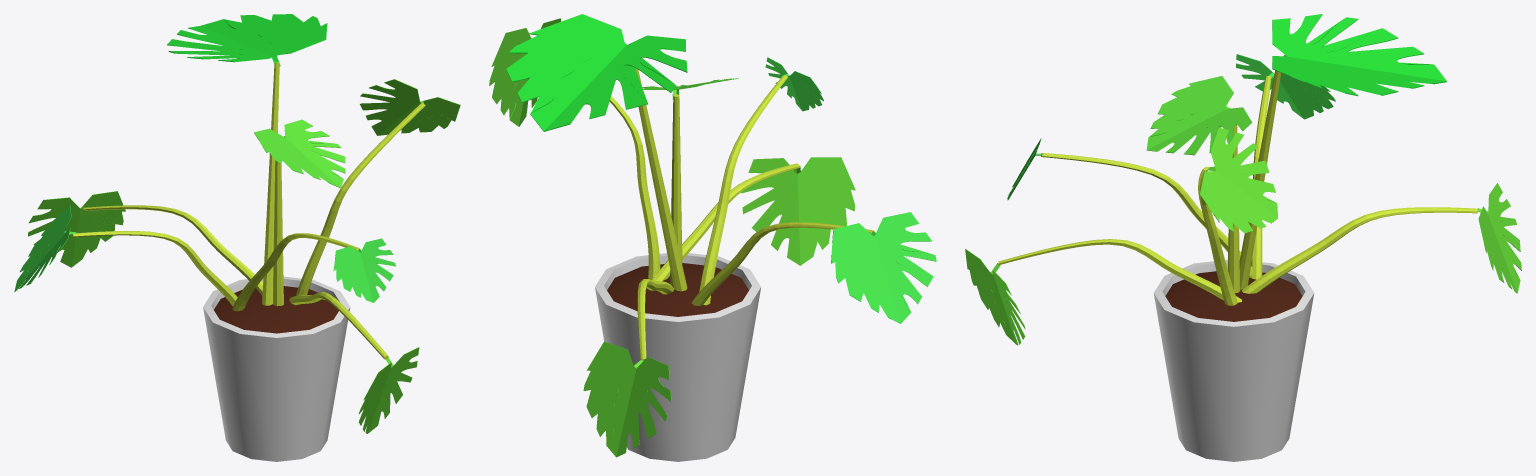
Rendered from potted plant 2.fbx.
3 views of the same model, side by side, from view 1: azimuth 30°, elevation 25°; view 2: azimuth 150°, elevation 25°; view 3: azimuth 270°, elevation 25° (orthographic). The views are drawn at different scales.
Visible parts, largest first — view 1: Pot.001, leaf potted plant 2.001, Soil.001, leaf potted plant 2.005, leaf potted plant 2.003, leaf potted plant 2.002, leaf potted plant 2.006, leaf potted plant 2.007, Cylinder.005, leaf potted plant 2.004, Cylinder.003, Cylinder.006 (+4 smaller); view 2: Pot.001, leaf potted plant 2.001, leaf potted plant 2.007, leaf potted plant 2.004, leaf potted plant 2.005, Soil.001, leaf potted plant 2.003, Cylinder.003, Cylinder.001, Cylinder.005, Cylinder.002, Cylinder (+3 smaller); view 3: Pot.001, leaf potted plant 2.001, leaf potted plant 2.003, leaf potted plant 2.002, Soil.001, leaf potted plant 2.005, leaf potted plant 2.007, leaf potted plant 2.004, Cylinder.006, Cylinder.004, Cylinder.003, Cylinder.001 (+3 smaller).
Boxes of the visible parts, x1,y1,x2,y2 form: Pot.001: (203, 276, 350, 461); leaf potted plant 2.001: (167, 14, 327, 67); Soil.001: (214, 286, 338, 333); leaf potted plant 2.005: (28, 191, 125, 267); leaf potted plant 2.003: (360, 79, 460, 135); leaf potted plant 2.002: (254, 119, 345, 187); leaf potted plant 2.006: (333, 238, 395, 302); leaf potted plant 2.007: (358, 347, 419, 433); Cylinder.005: (296, 102, 425, 295); leaf potted plant 2.004: (14, 205, 76, 292); Cylinder.003: (262, 62, 279, 305); Cylinder.006: (83, 205, 262, 295); Pot.001: (595, 253, 760, 461); leaf potted plant 2.001: (506, 14, 687, 131); leaf potted plant 2.007: (741, 157, 855, 265); leaf potted plant 2.004: (831, 212, 936, 323); leaf potted plant 2.005: (583, 341, 671, 457); Soil.001: (607, 263, 748, 316); leaf potted plant 2.003: (489, 18, 561, 126); Cylinder.003: (635, 68, 687, 291); Cylinder.001: (699, 75, 787, 305); Cylinder.005: (609, 96, 660, 279); Cylinder.002: (692, 222, 874, 305); Cylinder: (670, 94, 682, 285); Pot.001: (1153, 259, 1314, 461); leaf potted plant 2.001: (1272, 14, 1446, 95); leaf potted plant 2.003: (1199, 127, 1277, 233); leaf potted plant 2.002: (1146, 76, 1252, 155); Soil.001: (1165, 271, 1302, 321); leaf potted plant 2.005: (1477, 183, 1521, 293); leaf potted plant 2.007: (965, 249, 1025, 345); leaf potted plant 2.004: (1236, 54, 1335, 119); Cylinder.006: (1242, 207, 1477, 293); Cylinder.004: (998, 239, 1241, 302); Cylinder.003: (1239, 70, 1281, 289); Cylinder.001: (1041, 153, 1252, 278).
Size of the model in its own units: 159 by 138 by 172.
